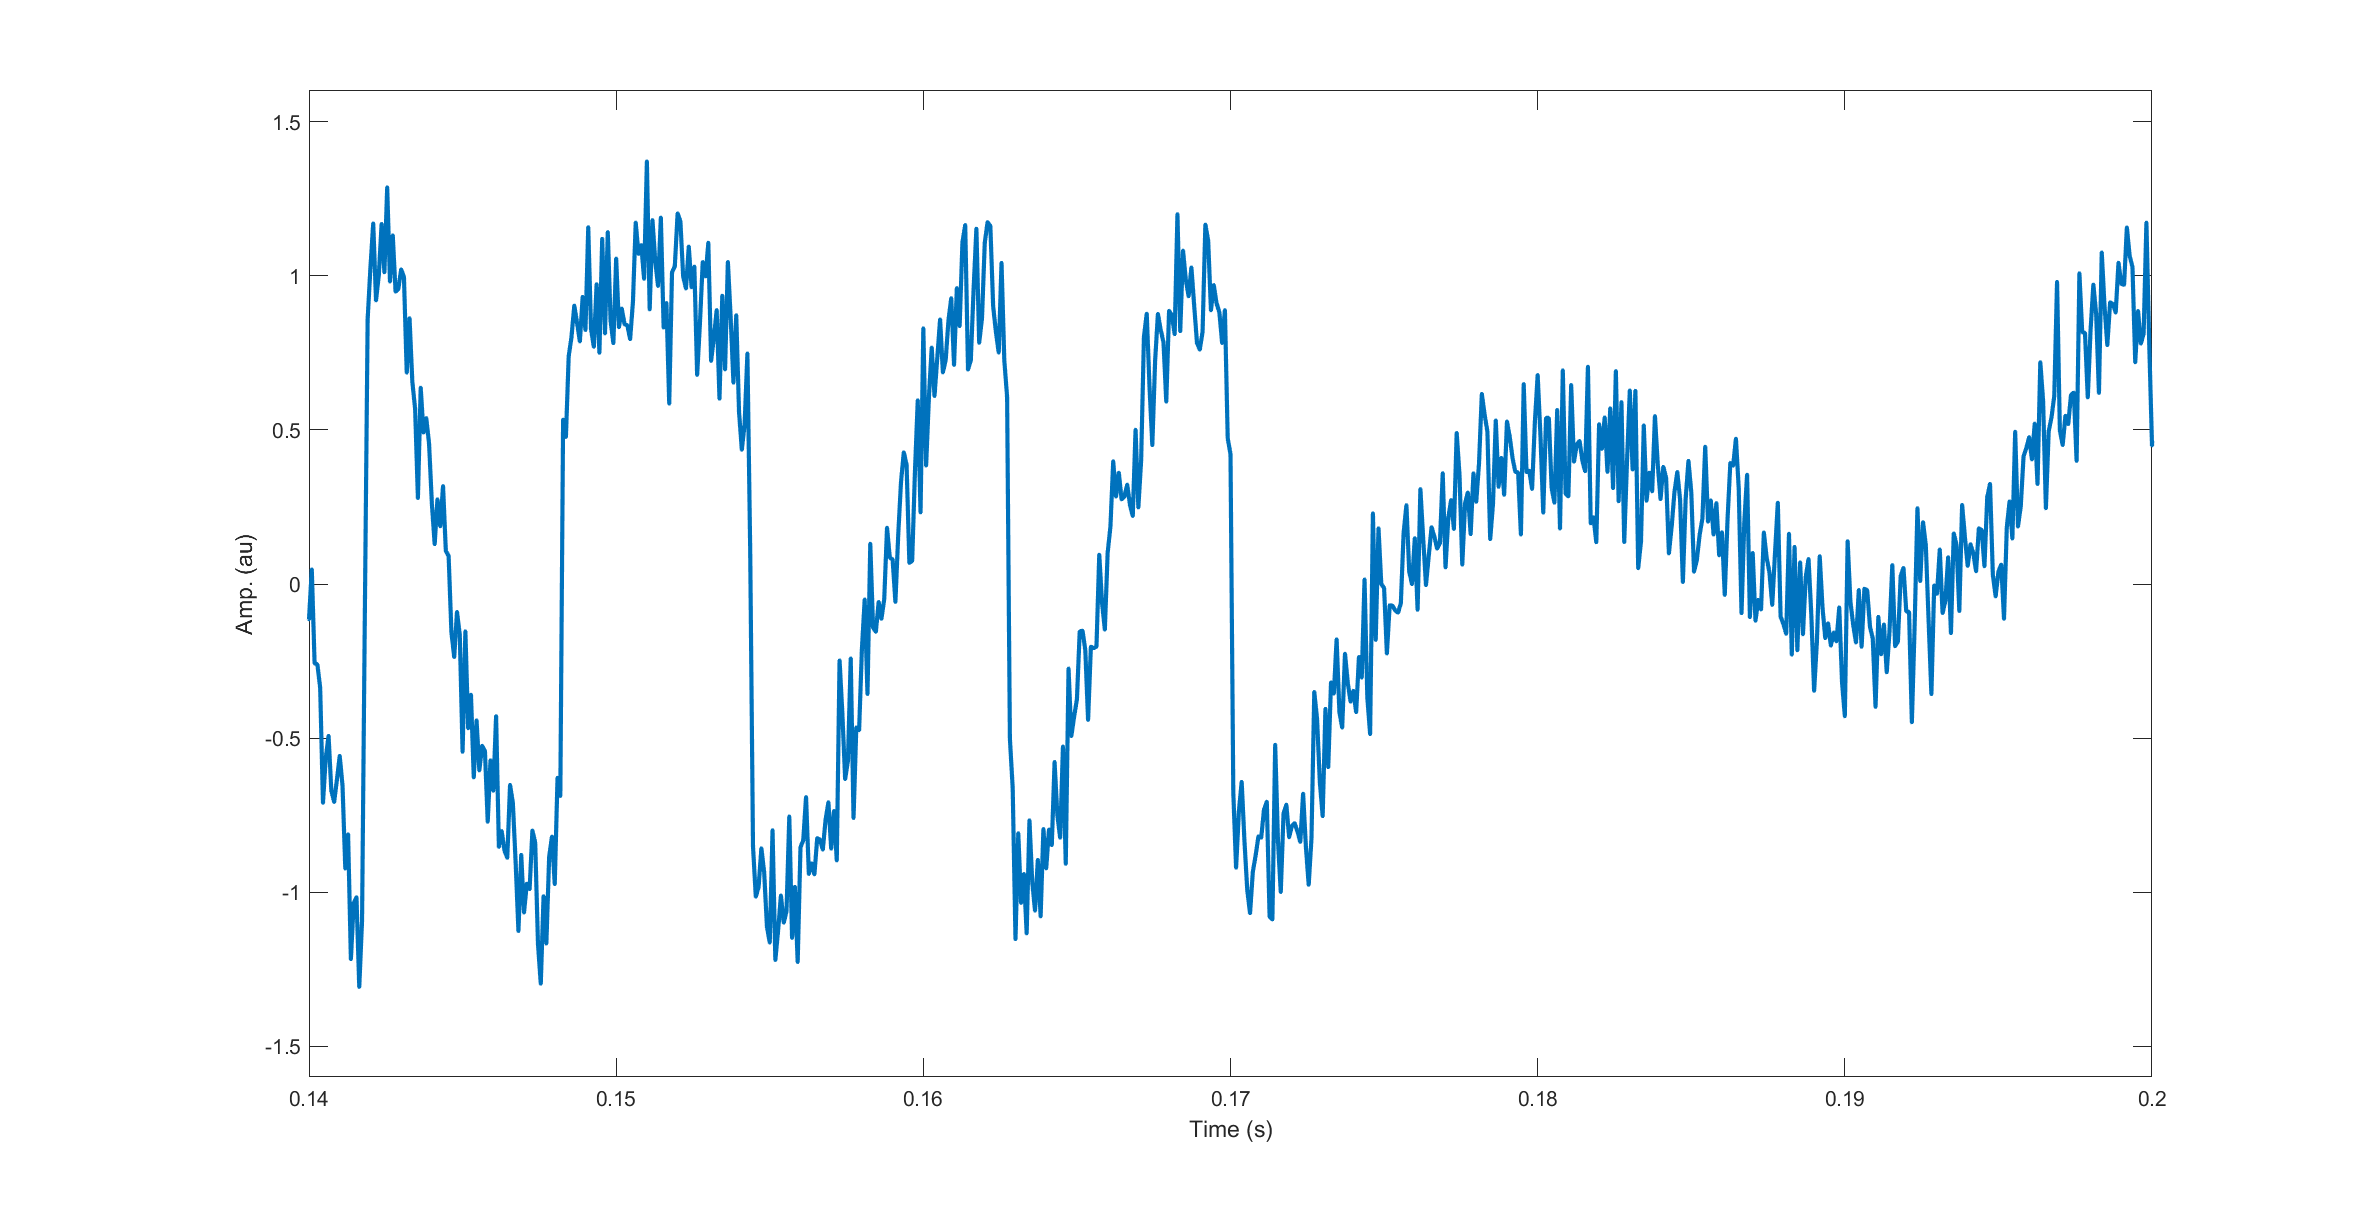negative_fringe: (349, 161, 528, 991)
positive_fringe: (787, 201, 1018, 952), (1028, 187, 1256, 938)
